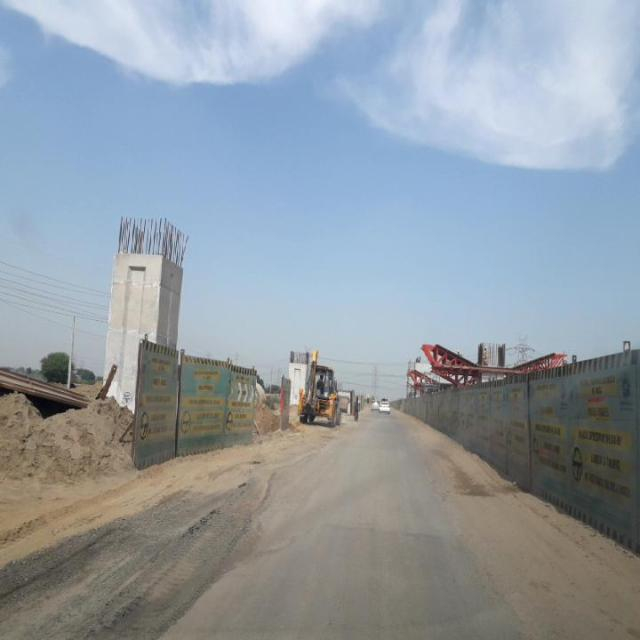Surface Erosion: (0, 381, 640, 640)
